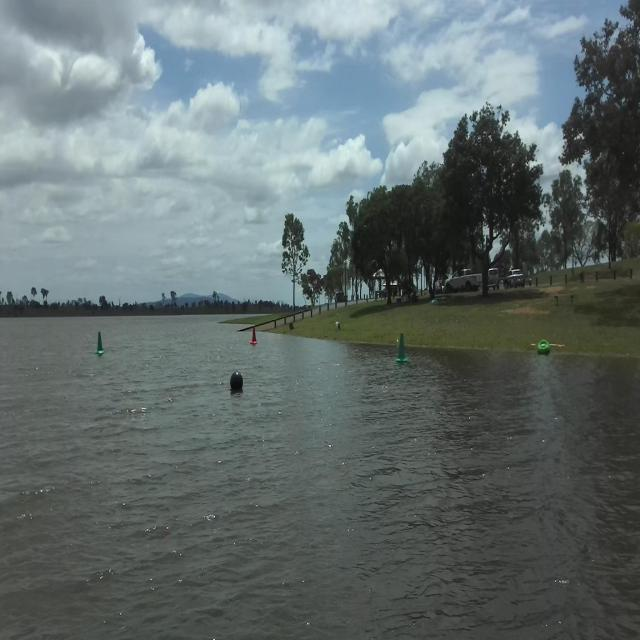Black_Buoy: (222, 365, 253, 395)
Green_Buoy: (383, 336, 420, 369), (89, 329, 109, 355)
Red_Buoy: (247, 326, 259, 347)
